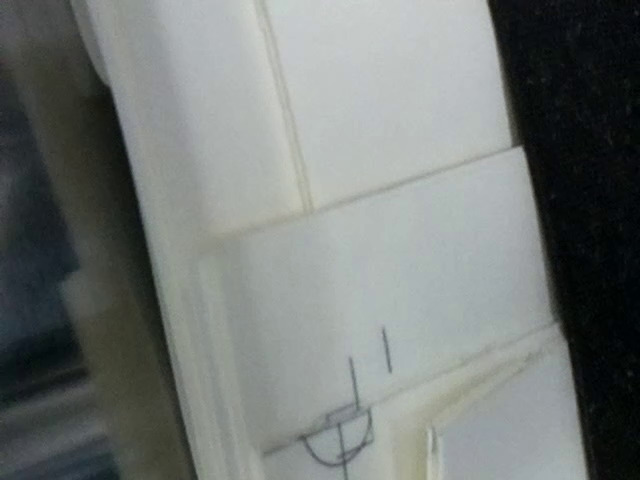misaligned: (256, 352, 416, 480)
